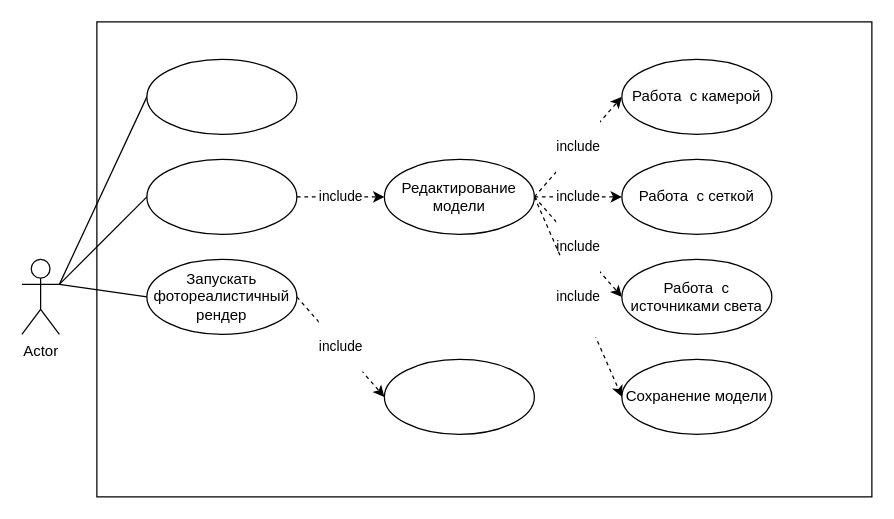
Some shapes in this 894 by 519 pixel diagram are drawn without their labels. The box of each missing label's shape, as (x1, y1, x2, y2) in pixels:
Загрузка модели: (146, 58, 297, 134)
Просмотр модели: (146, 158, 297, 234)
Сохранение результата рендеринга: (383, 358, 534, 434)
